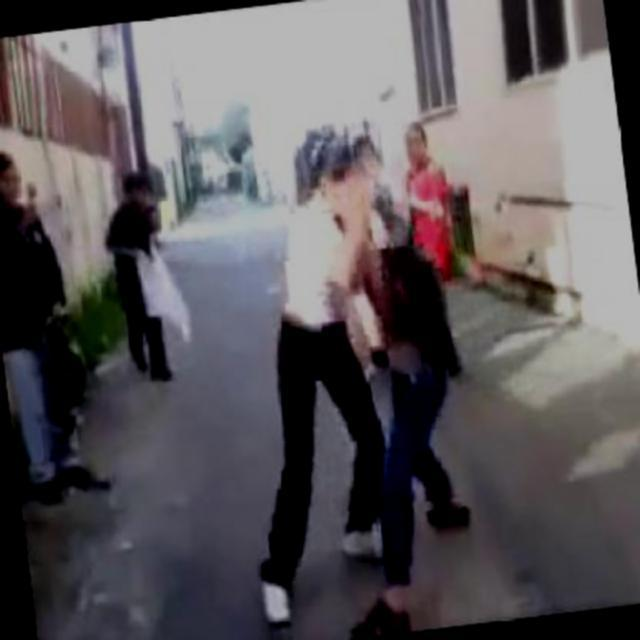fight: (211, 112, 491, 638)
non-fight: (0, 144, 105, 503), (96, 167, 182, 378)
